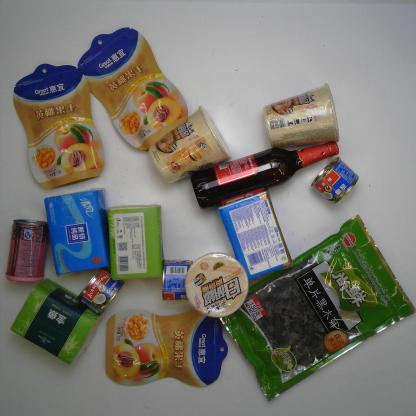Alcohol: (192, 141, 340, 208)
Canned Food: (6, 218, 52, 284), (76, 264, 127, 317), (310, 154, 362, 204), (160, 256, 194, 305)
Dried Food: (220, 214, 416, 403)
Dried Fruit: (77, 27, 189, 151), (12, 61, 106, 189), (102, 310, 231, 389)
Instant Noodles: (146, 106, 232, 185), (260, 82, 346, 148), (182, 249, 248, 321)
Tissue: (9, 279, 104, 367), (214, 190, 296, 282), (42, 187, 110, 278), (107, 204, 165, 282)
